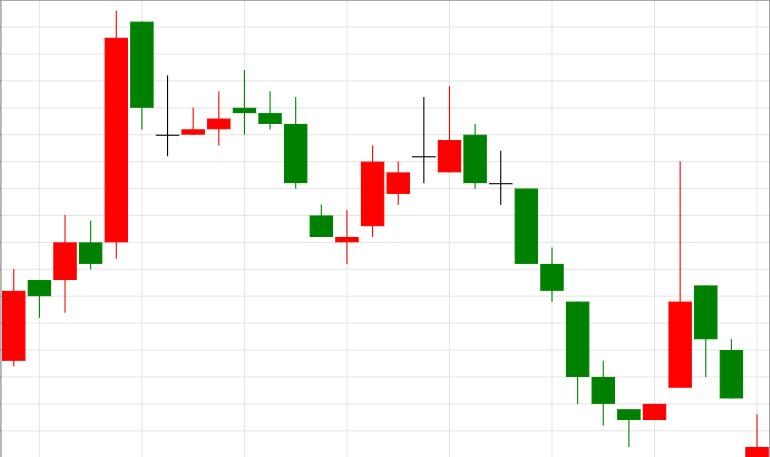morning_star_rise: (233, 70, 384, 264)
shooting_star_fall: (334, 87, 461, 264)
